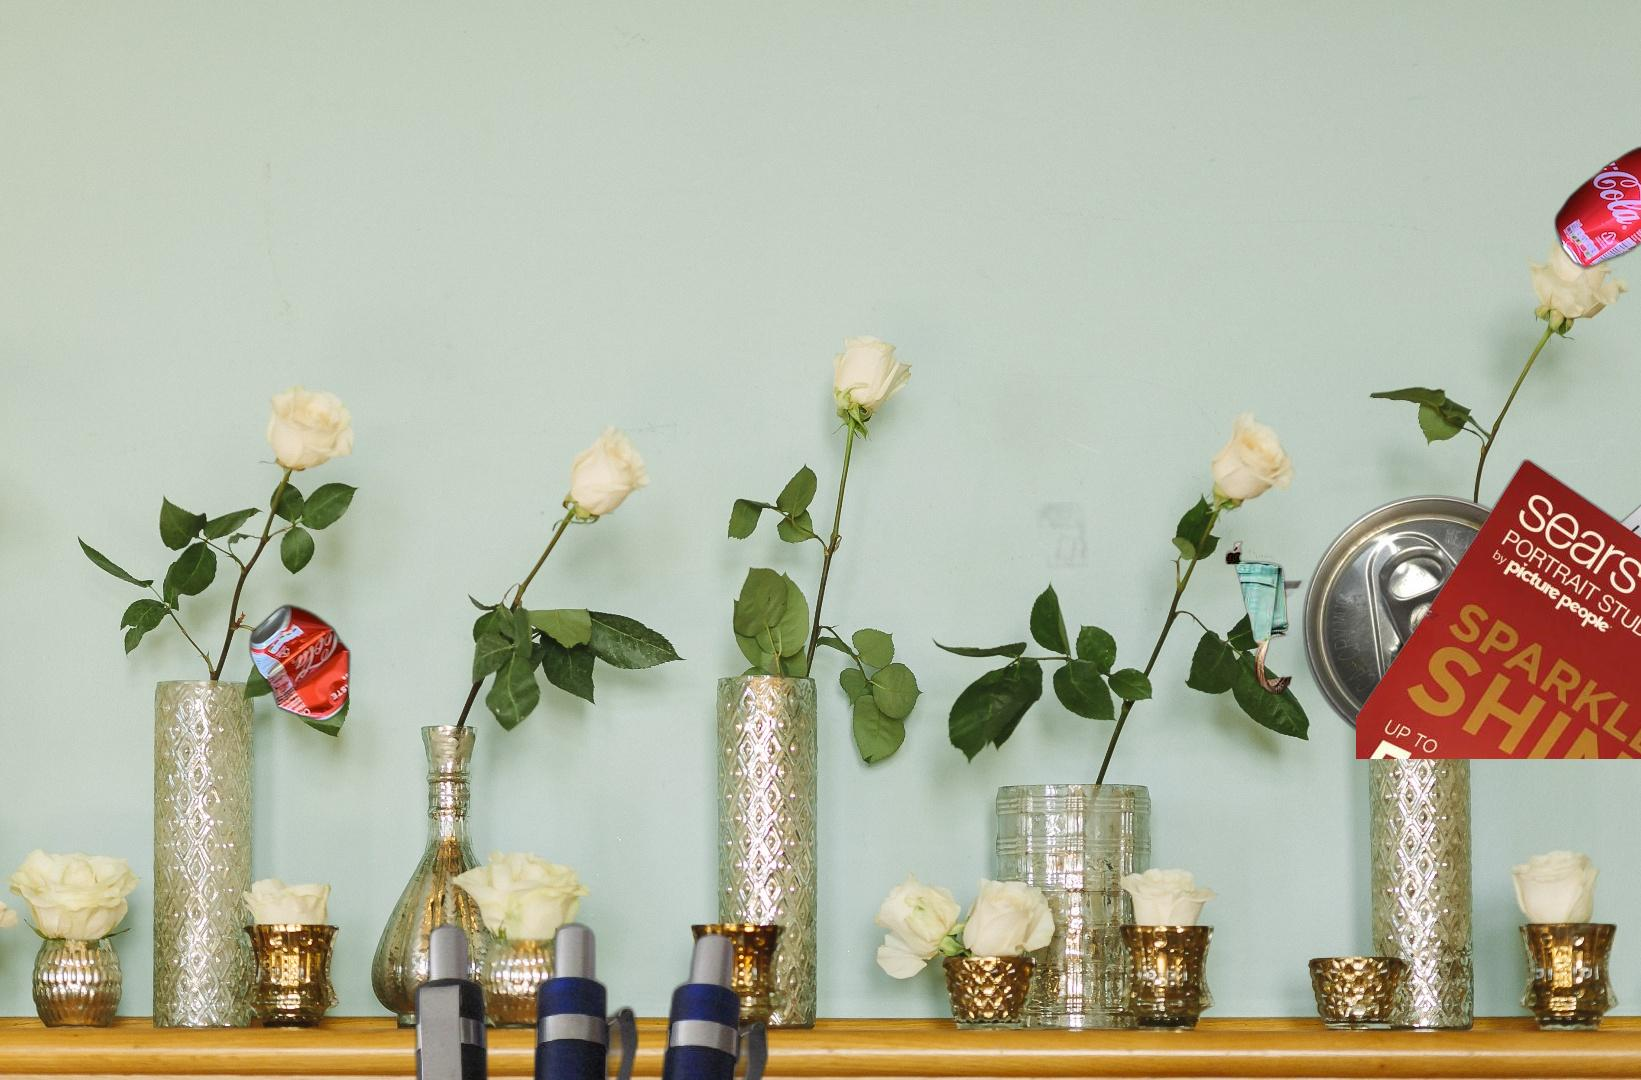metal-cans: (1299, 492, 1570, 759), (245, 599, 355, 727), (1549, 133, 1641, 276)
paper: (1355, 456, 1641, 759)
penholder: (407, 915, 775, 1080)
trashbox-cardboard: (1027, 501, 1312, 697)
